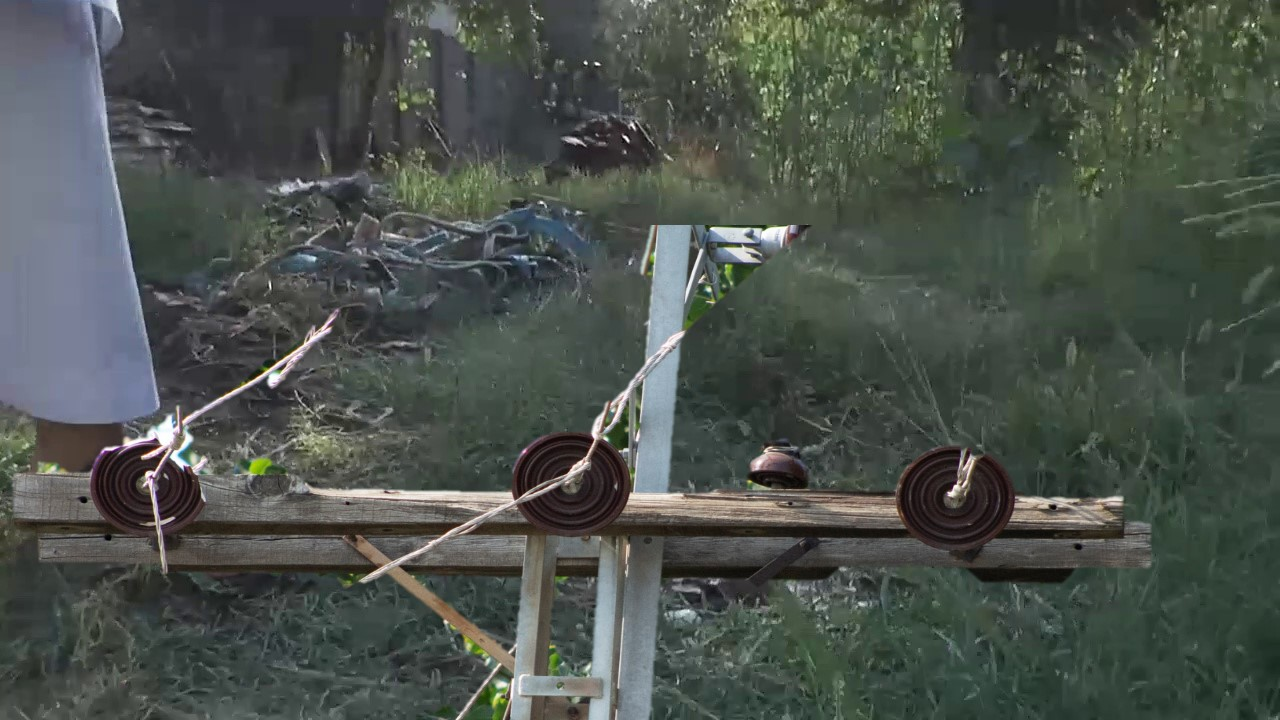defect_disc: (87, 423, 216, 547)
insulator_disc: (508, 431, 638, 543), (892, 442, 1019, 556)
insulator_pin: (748, 440, 814, 492)
